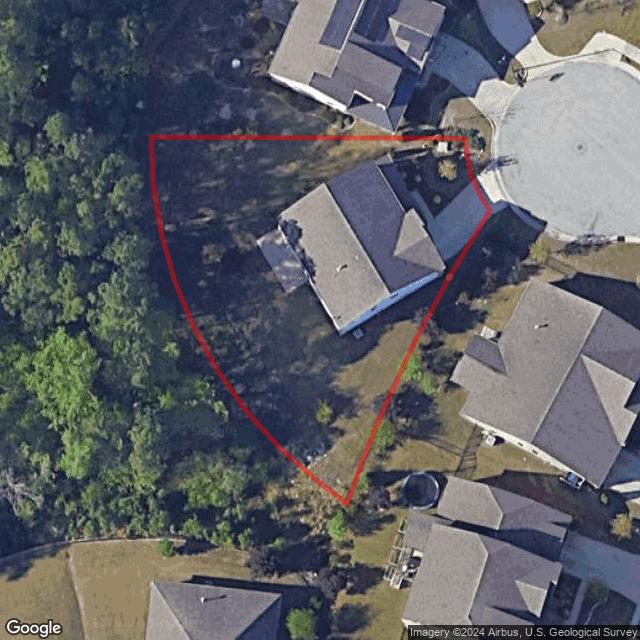Driveway: (425, 180, 489, 266)
Extra-Driveway: (471, 162, 509, 213)
Extra-Lawn: (464, 137, 492, 180)
House: (276, 151, 449, 338)
Lawn: (152, 138, 490, 504)
Other: (388, 149, 454, 217), (256, 227, 310, 294), (423, 141, 465, 157)
Sidewalk: (409, 187, 435, 224)
